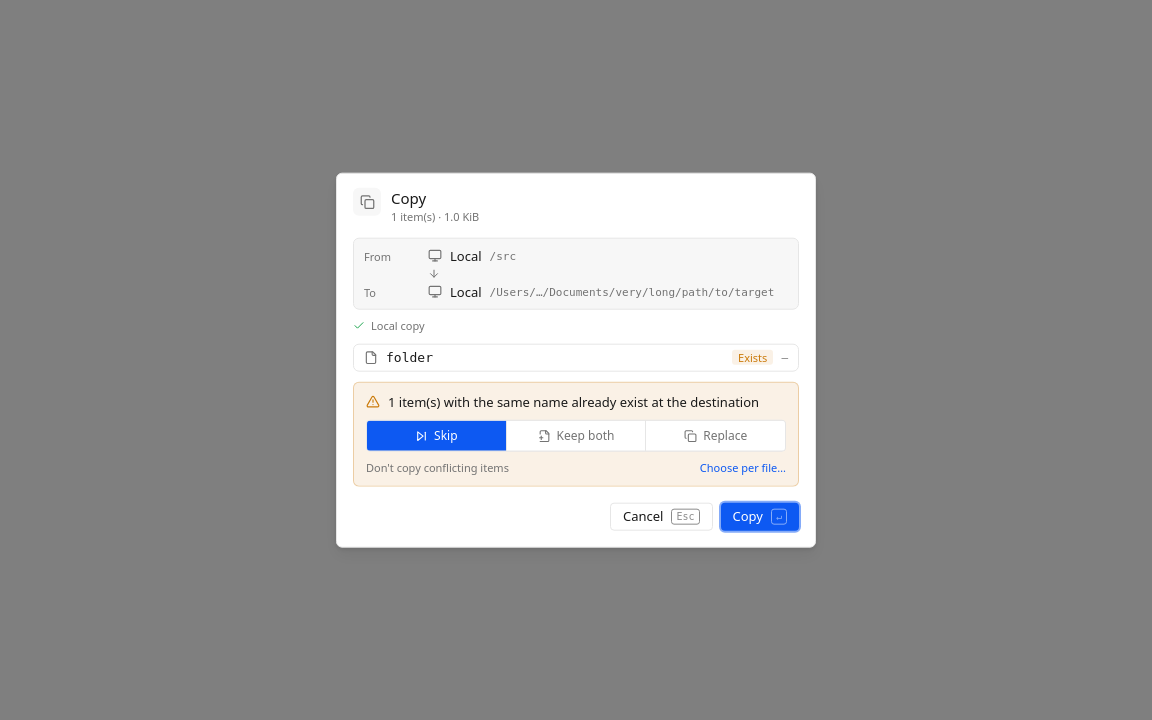
Test: CopyMoveConfirmDialog › 폴더만 교체하면 영구 손실 경고 없이 Undo를 안내 (항목별=true)
Click the button "Choose per file…" at (743, 468), box [700, 460, 786, 475]
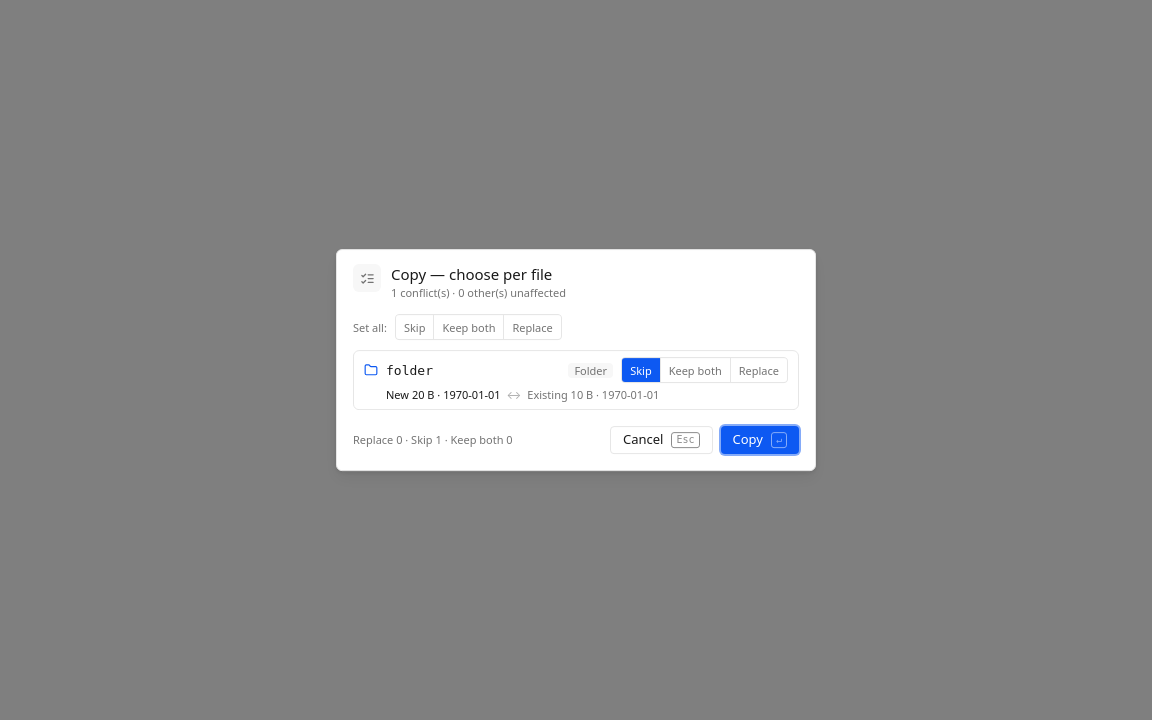
Click the radio button labelled "Replace" in the row of "Set all:" at (533, 328), box [504, 316, 561, 340]
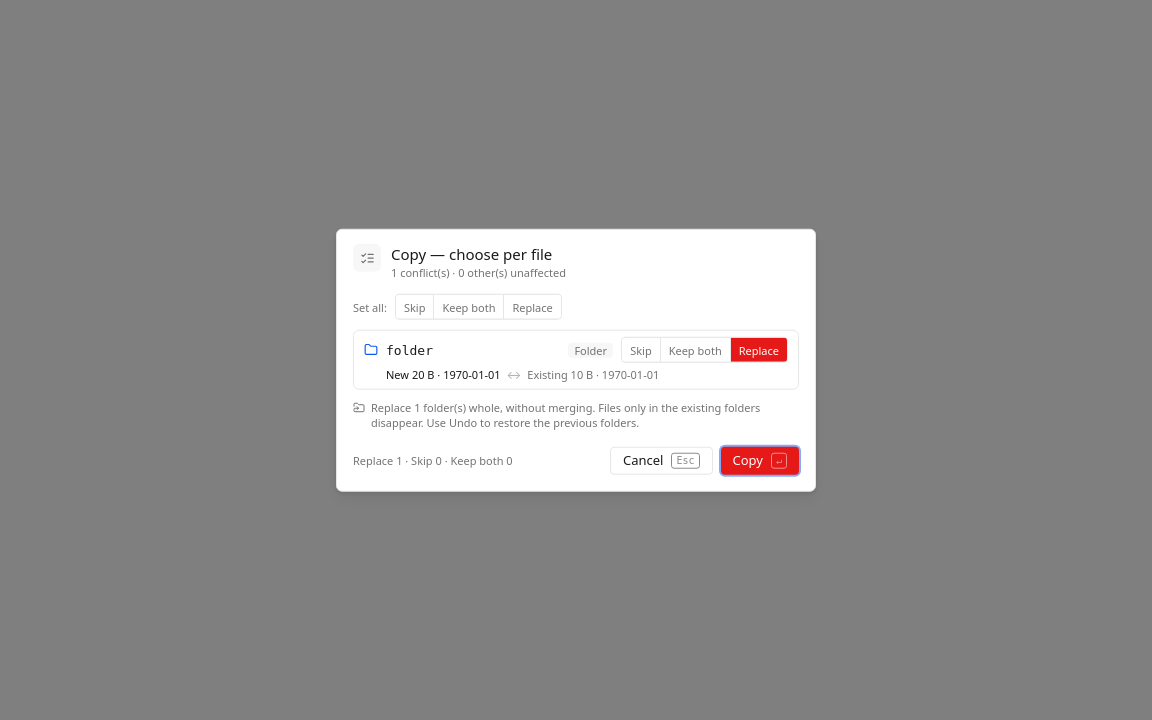
Result: the text "Replace 1 folder(s) whole" is shown at [371, 400, 760, 430]
Result: the text "Use Undo to restore" is shown at [427, 415, 639, 430]
